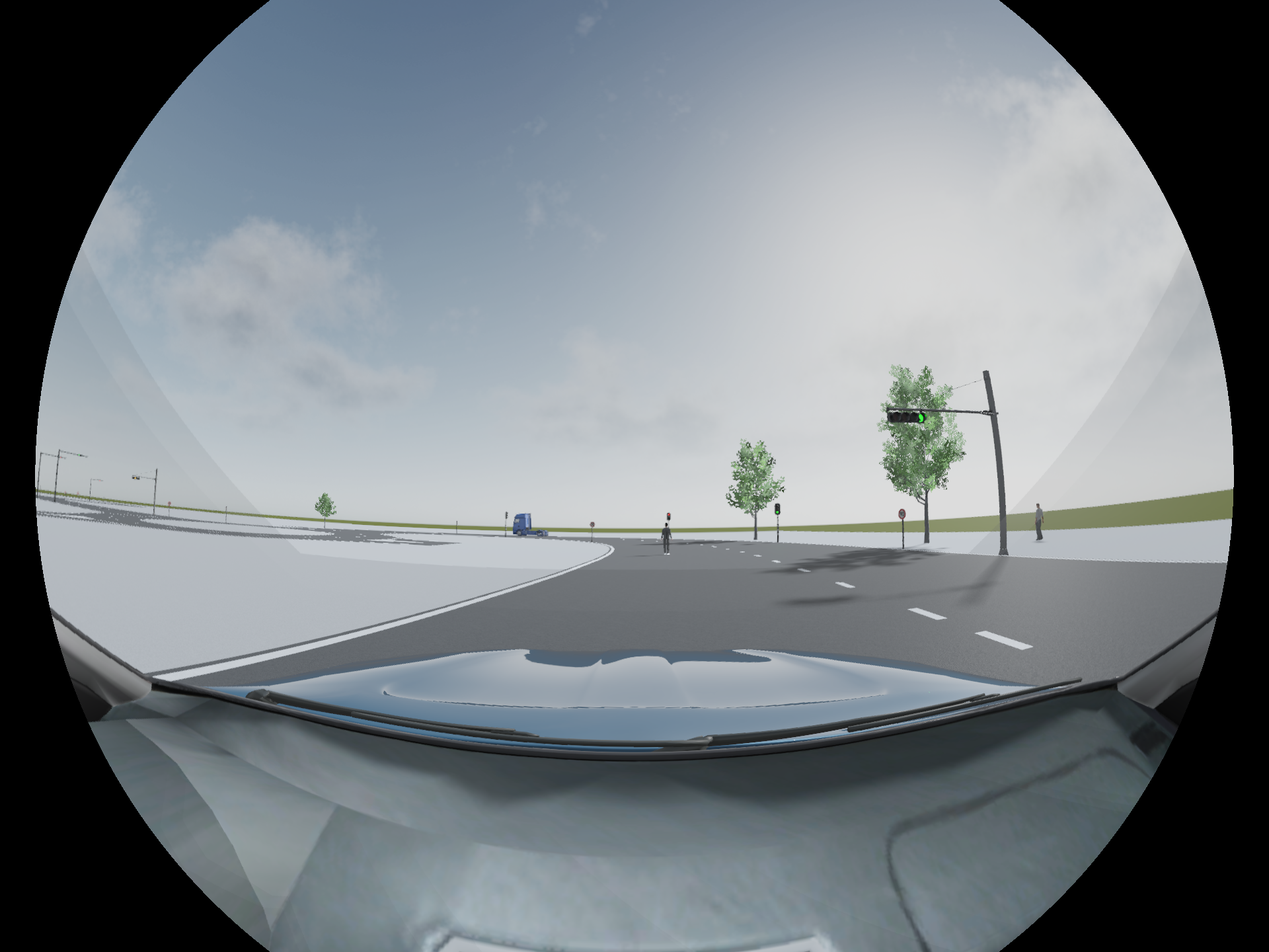Green Light: (889, 411, 927, 424), (775, 503, 780, 516)
Red Light: (666, 512, 670, 521)
Speed Limit 90: (899, 509, 906, 519)
